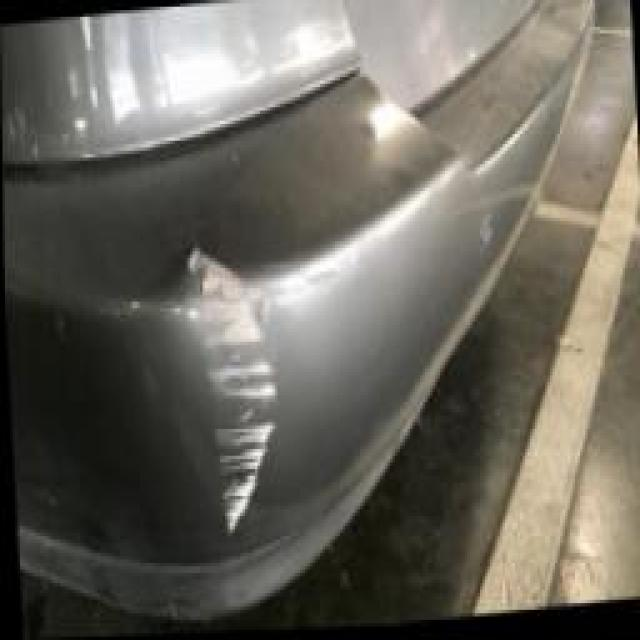Bumper: (162, 221, 327, 565)
